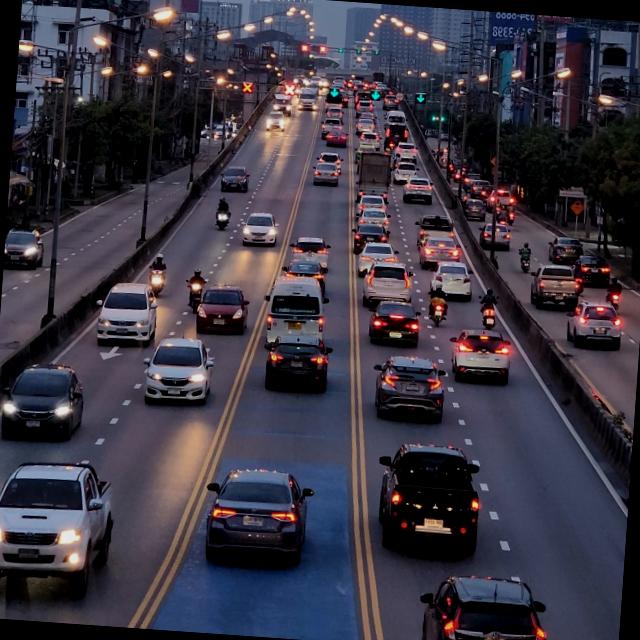Vehicle: (0, 455, 123, 603), (372, 442, 482, 562), (200, 460, 316, 570), (412, 568, 554, 640), (0, 358, 85, 446), (368, 356, 449, 424), (140, 334, 214, 406), (256, 276, 324, 350), (92, 278, 158, 348), (260, 338, 330, 394), (447, 327, 511, 386), (354, 260, 416, 310), (189, 284, 246, 336), (364, 296, 420, 348), (522, 260, 581, 308), (564, 300, 620, 348), (2, 224, 48, 278), (428, 264, 474, 307)
